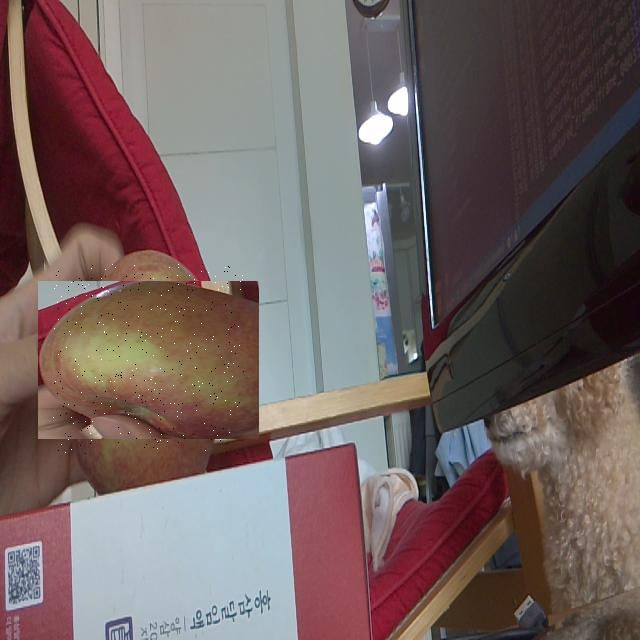apple: (53, 264, 244, 454)
